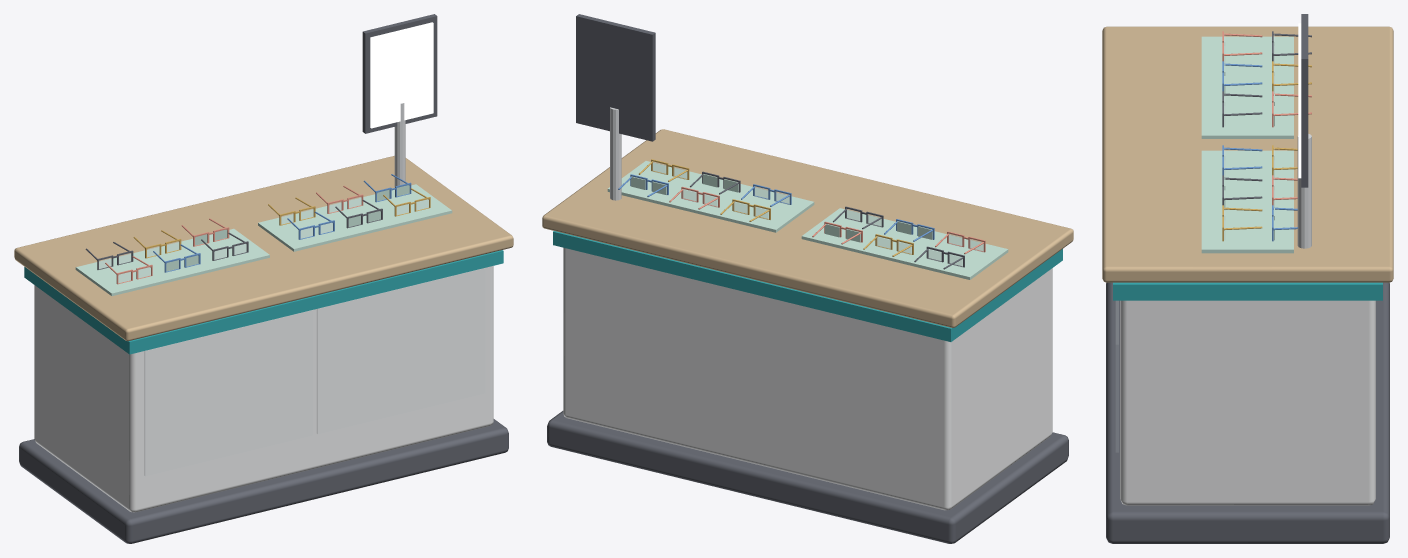
The picture shows the model from 3 angles, left to right: view 1: azimuth 30°, elevation 25°; view 2: azimuth 150°, elevation 25°; view 3: azimuth 270°, elevation 25°; orthographic projection. The views are drawn at different scales.
Parts seen in each view (by area): view 1: frame-display-island; view 2: frame-display-island; view 3: frame-display-island.
Boxes of the visible parts, x1,y1,x2,y2 form: frame-display-island: [14, 14, 513, 543]; frame-display-island: [542, 14, 1073, 543]; frame-display-island: [1102, 14, 1393, 543].
Size of the model in its own units: 1.62 by 1.52 by 0.82.
